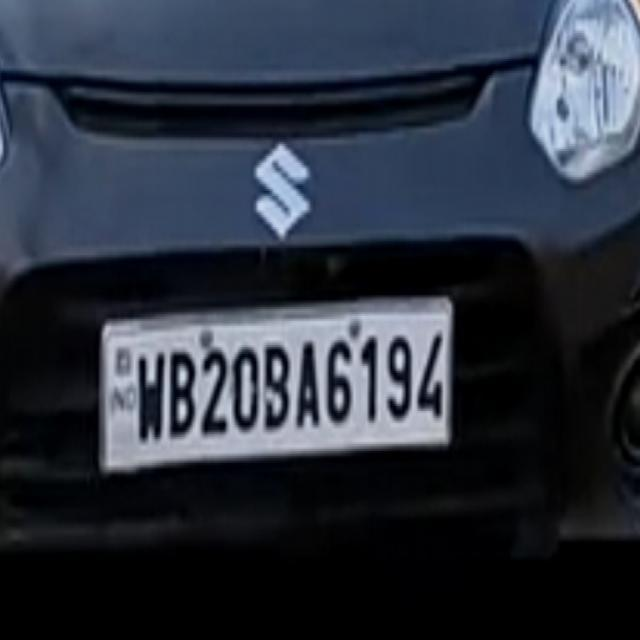0: (231, 342, 265, 434)
1: (358, 328, 382, 431)
4: (417, 318, 449, 434)
6: (323, 320, 358, 432)
9: (382, 319, 417, 436)
A: (294, 333, 324, 438)
B: (167, 342, 201, 442), (260, 337, 292, 439)
W: (136, 344, 168, 447)
